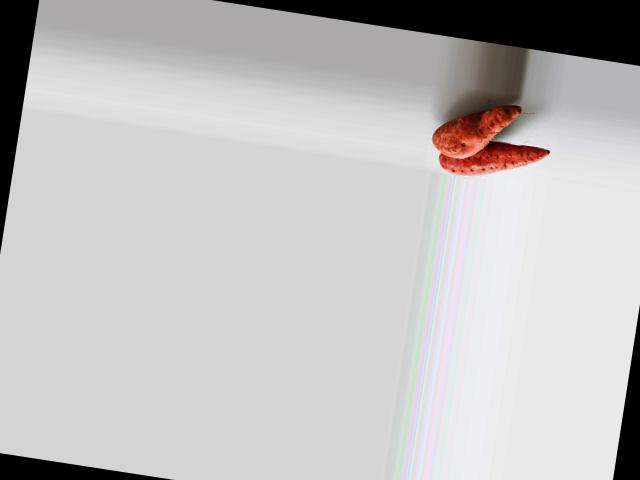sweet_potato: (437, 132, 543, 185)
